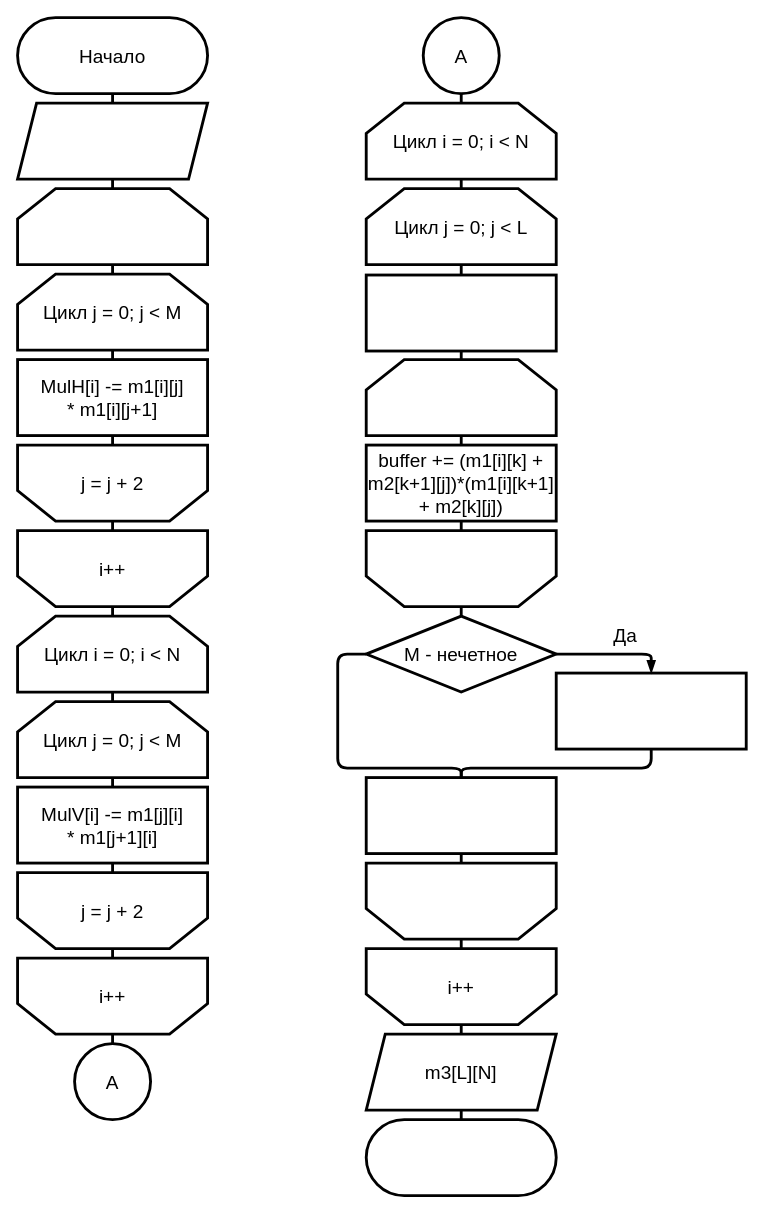
The diagram is 764 pixels wide and 1213 high, and some of its shapes have lost their labels. Here are the shapes that lost their labels. From the top down, the box of each, then its label:
(16, 101, 209, 180): Матрицы m1[L][M] и m2[M][N]
(16, 187, 209, 266): Цикл i = 0; i < L
(364, 273, 557, 352): buffer = MulH[i] MulV[j]
(364, 358, 557, 437): Цикл k = 0; k < M
(364, 529, 557, 608): k = k + 2
(554, 671, 747, 750): buffer = m1[i][M-1] * m2[M-1][j]
(364, 776, 557, 855): m3[i][j] = buffer
(364, 861, 557, 940): j++
(364, 1118, 557, 1197): Конец
